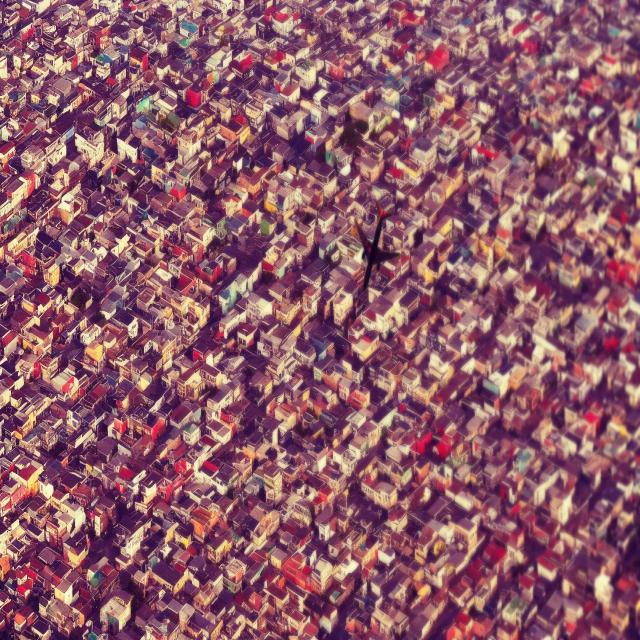airplane: (353, 197, 398, 290)
